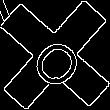O_NE: (22, 22, 88, 88)
